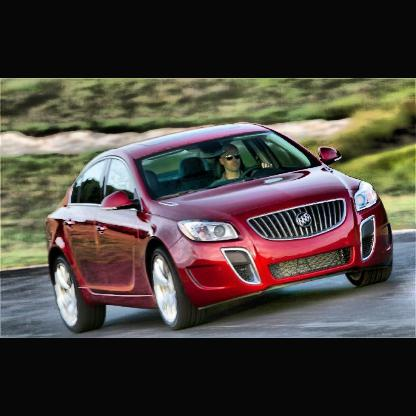Buick Regal GS 2012: (47, 124, 398, 333)
